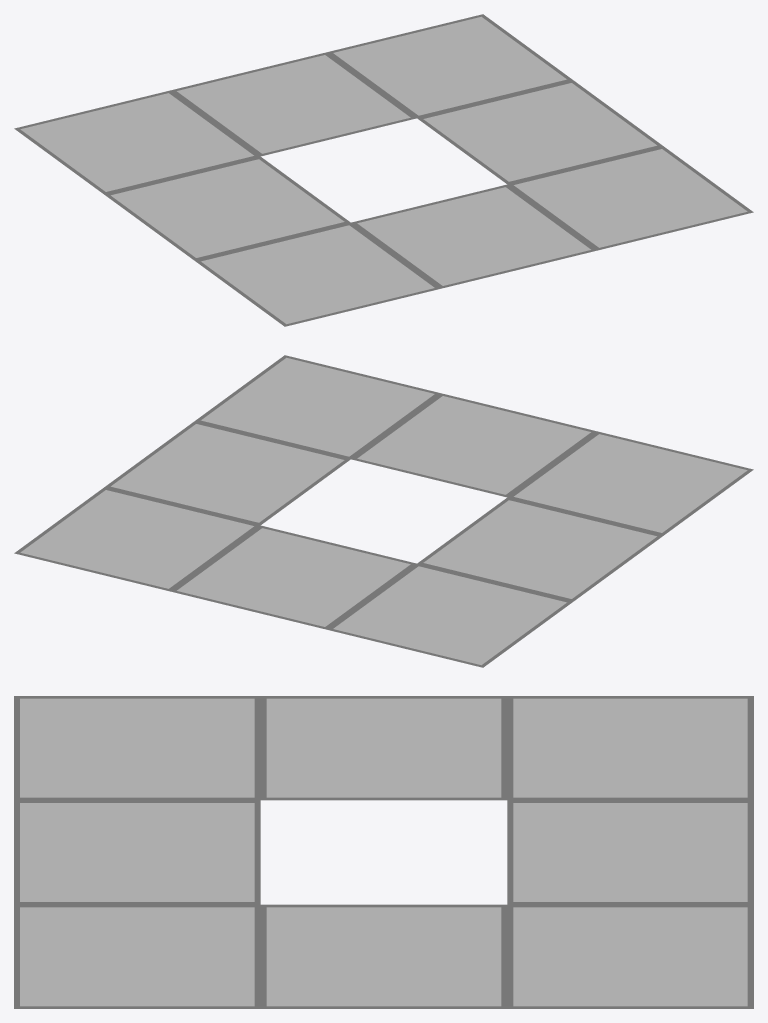
File: Ceiling_3x3.fbx
3 renders of one model, top to bottom at view 1: azimuth 30°, elevation 25°; view 2: azimuth 150°, elevation 25°; view 3: azimuth 270°, elevation 25°, orthographic. The views are drawn at different scales.
Visible parts, largest first — view 1: CeilingTiles.001; view 2: CeilingTiles.001; view 3: CeilingTiles.001.
Boxes of the visible parts, bbox=[...] form: CeilingTiles.001: bbox=[14, 14, 753, 326]; CeilingTiles.001: bbox=[14, 355, 753, 667]; CeilingTiles.001: bbox=[14, 696, 753, 1008].
Size of the model in its own units: 300 by 4.2e-05 by 300.
